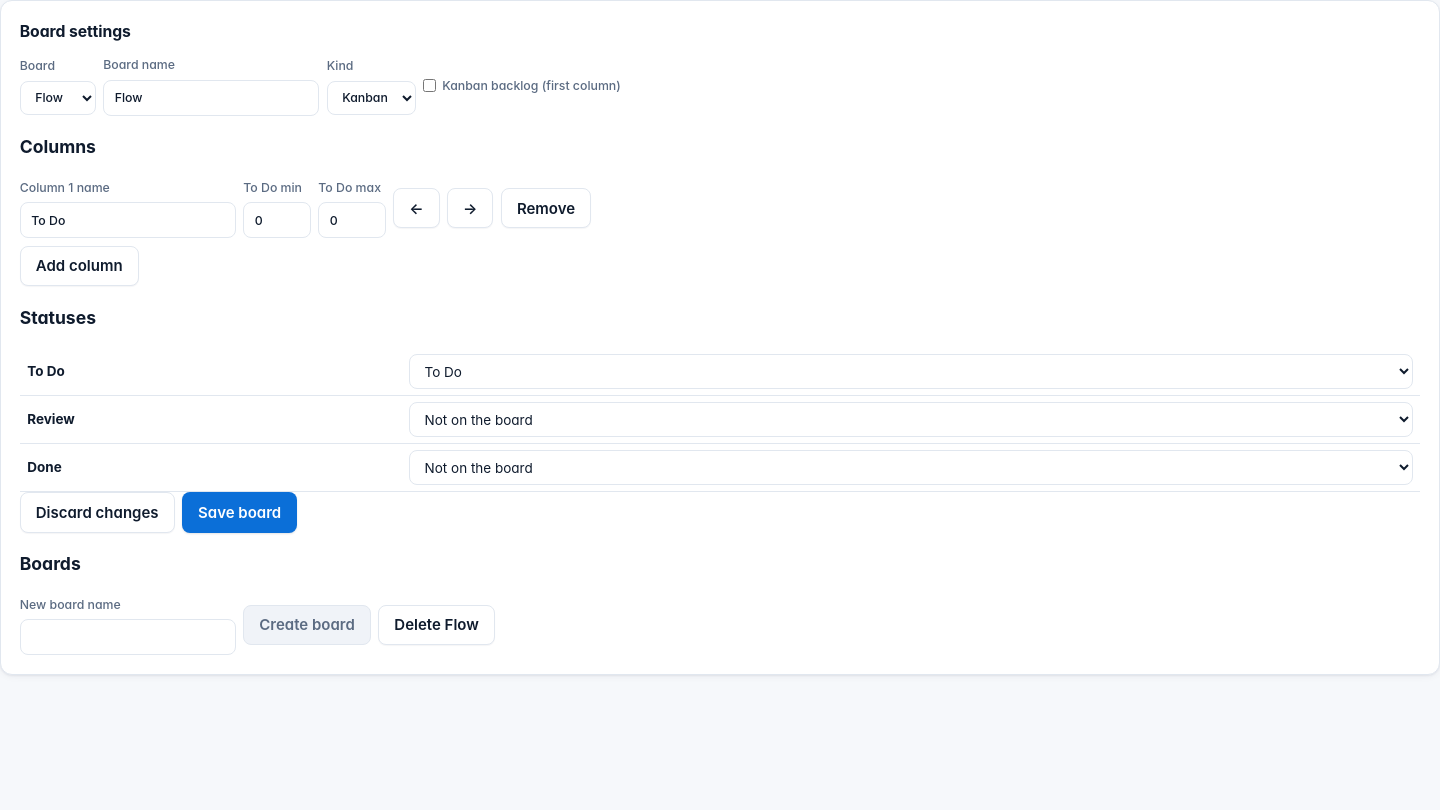
it: BoardSettings (S44) › blocks invalid boards, discards changes and shows refusals
Earlier steps of the test are not shown.
Select "Scrum" in the dropdown labelled "Kind" at {"x": 371, "y": 98}, box [327,81,416,115]
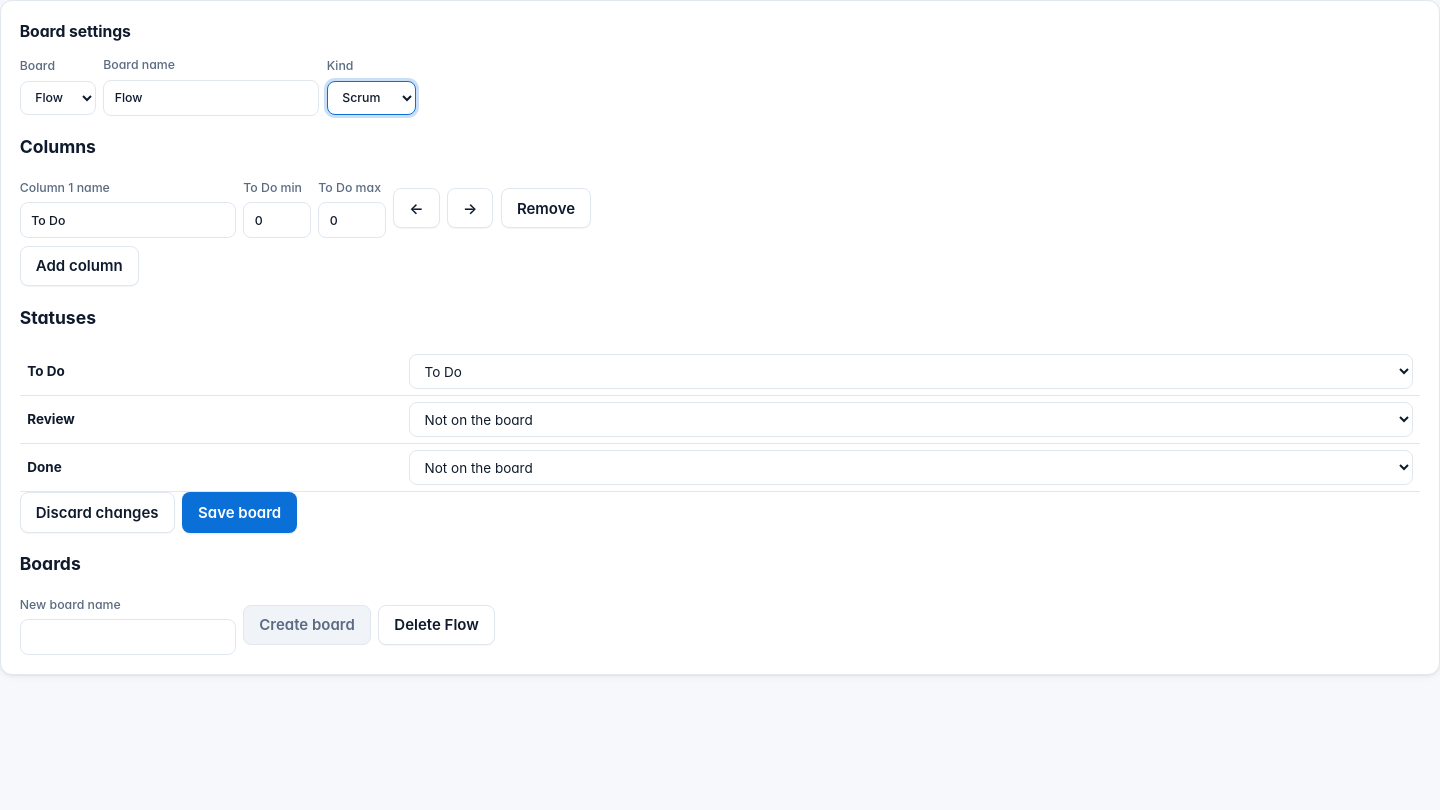
Now the label labelled "Kanban backlog (first column)" is gone
Click the button "Delete Flow" at {"x": 437, "y": 625}, box [378,605,495,645]
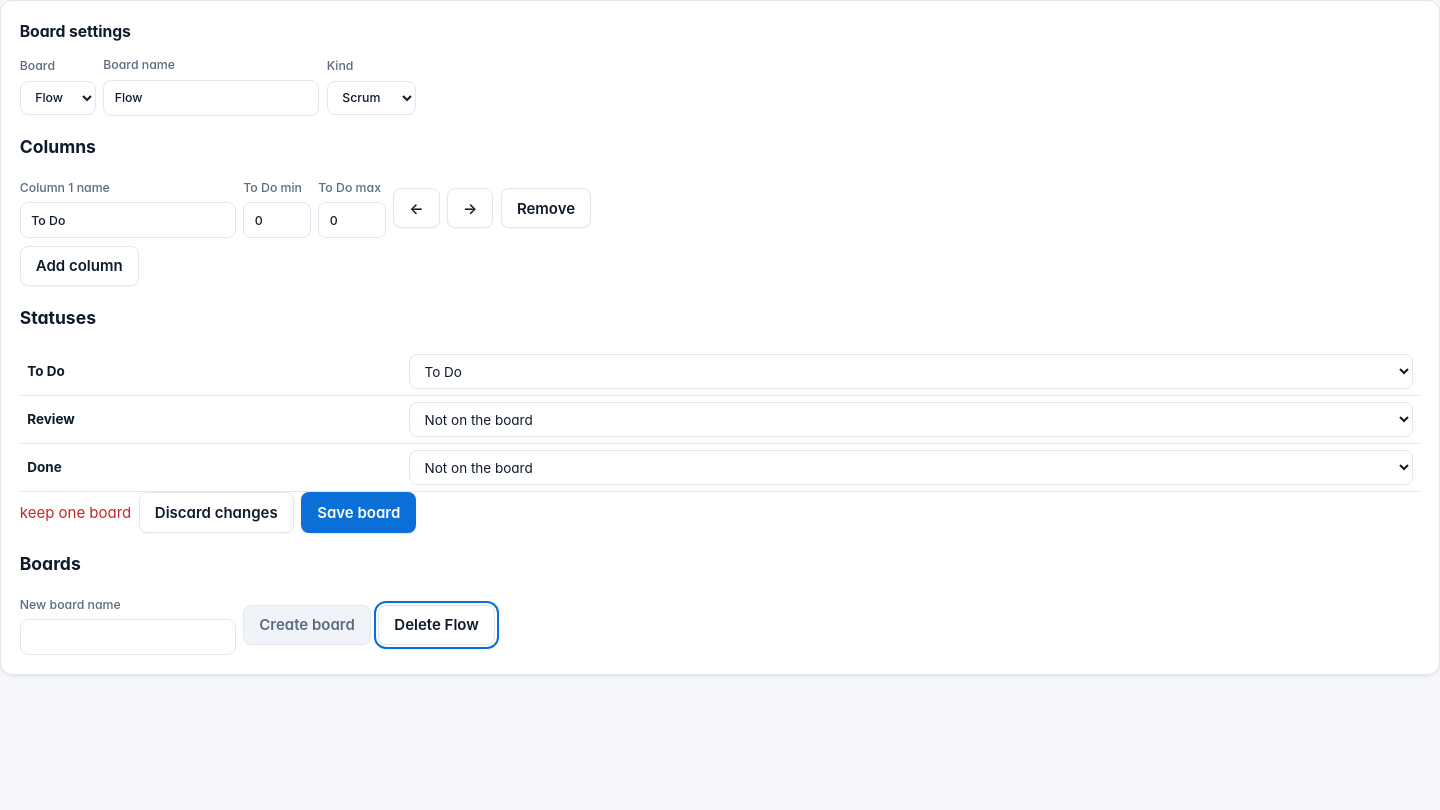
Now the message reads "keep one board", box [20,503,131,522]
Type "Ops" into the field labelled "New board name" at {"x": 128, "y": 637}, box [20,619,236,655]
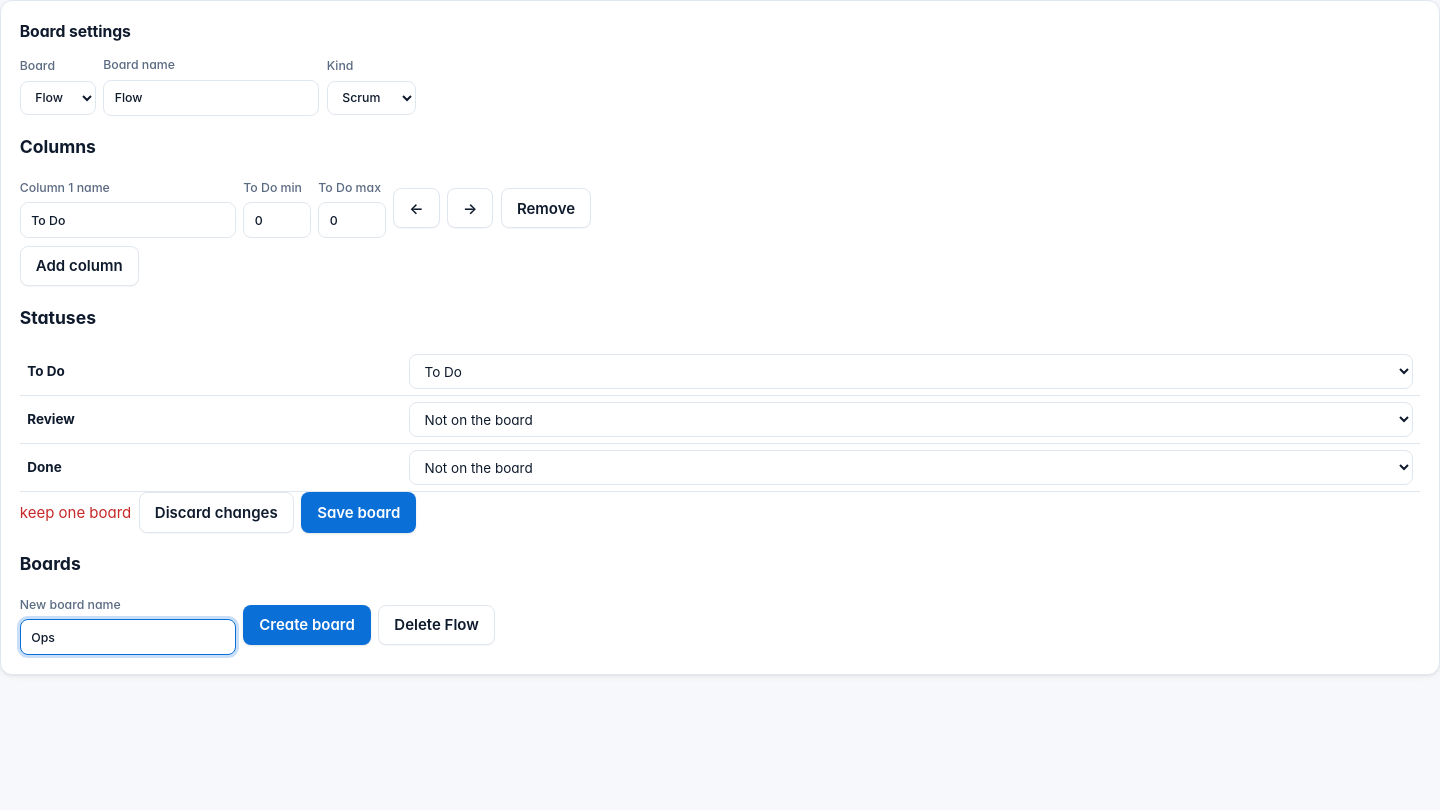
Click the button "Create board" at {"x": 307, "y": 625}, box [243,605,371,645]
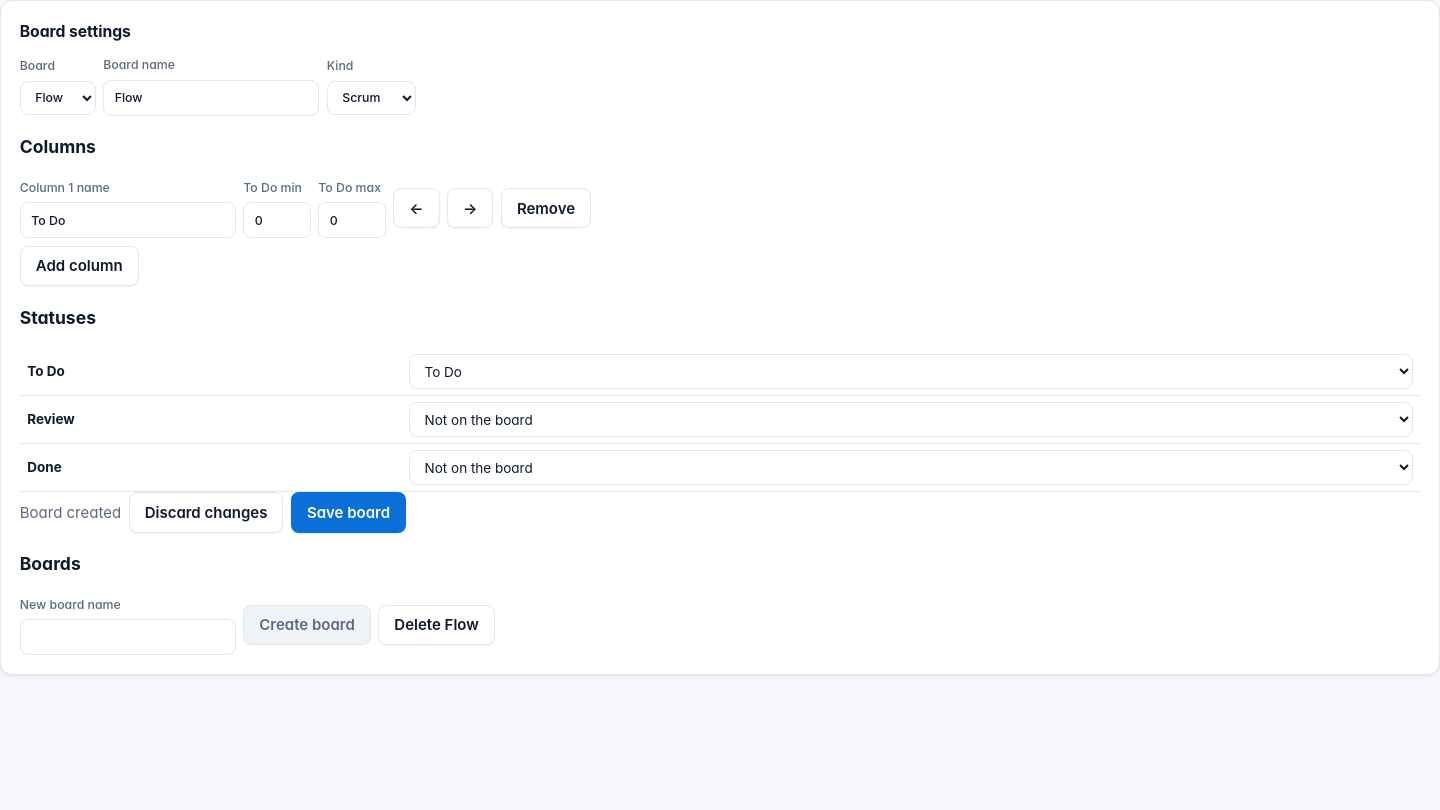
Now the message reads "Board created", box [20,503,121,522]
Select "Other" in the dropdown labelled "Board" at {"x": 58, "y": 98}, box [20,81,96,115]
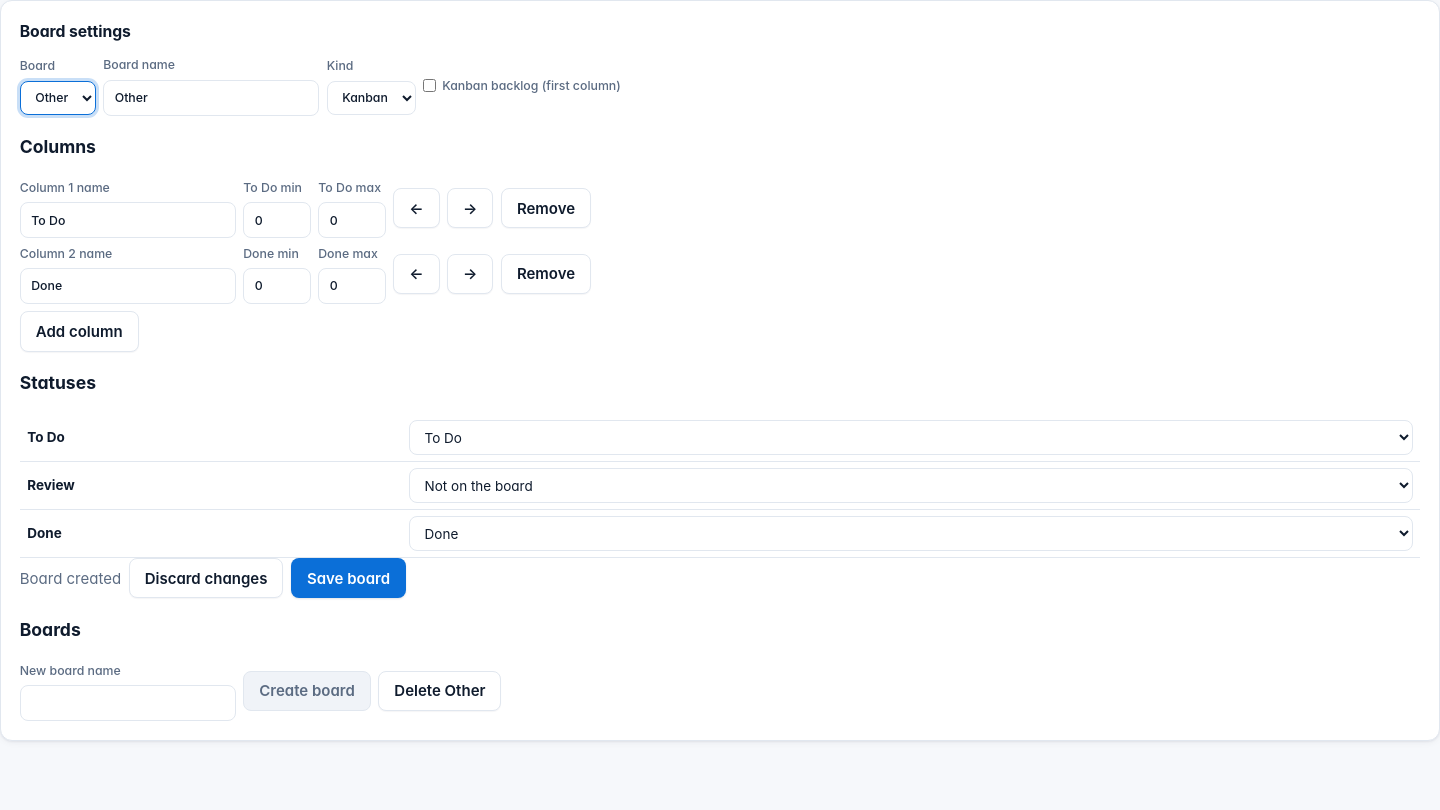
Click the button "Save board" at {"x": 349, "y": 578}, box [291,558,406,598]
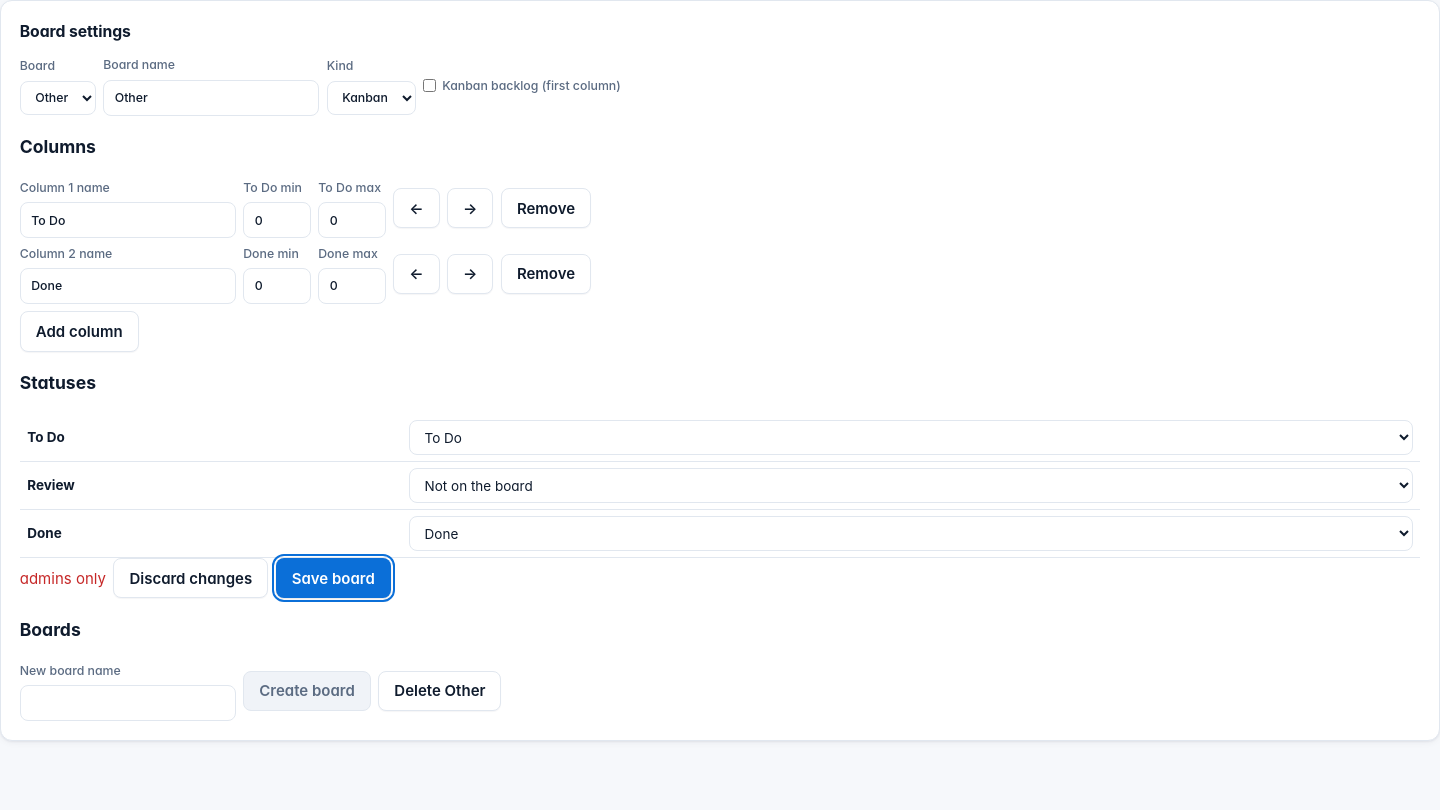
Now the message reads "admins only", box [20,568,106,588]
